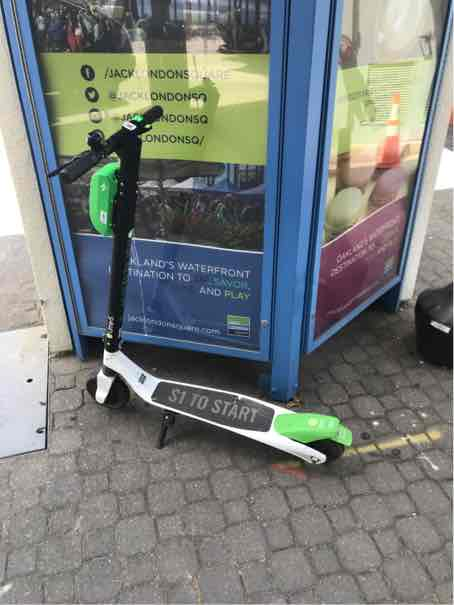scooter: (40, 100, 356, 480)
